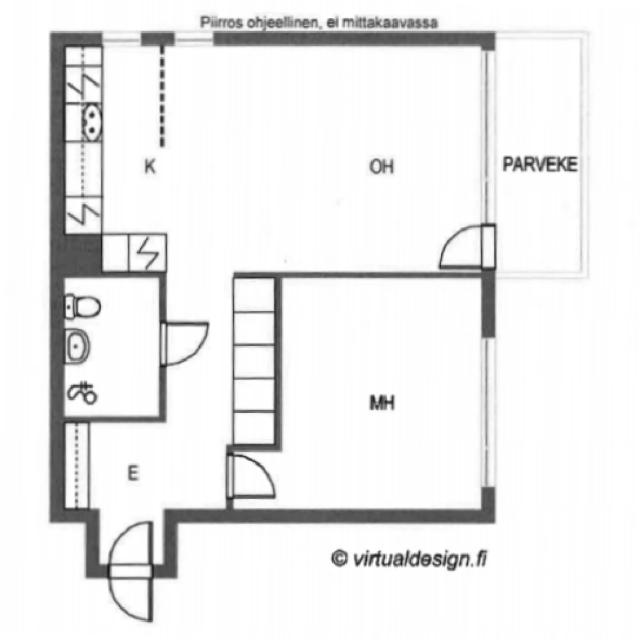door: (100, 514, 159, 626), (151, 314, 212, 371), (430, 220, 495, 271), (222, 448, 282, 502)
window: (465, 328, 511, 493), (466, 45, 507, 227), (166, 27, 223, 52), (96, 27, 150, 50)
zone: (272, 270, 492, 517), (65, 34, 177, 267), (56, 271, 165, 419)
